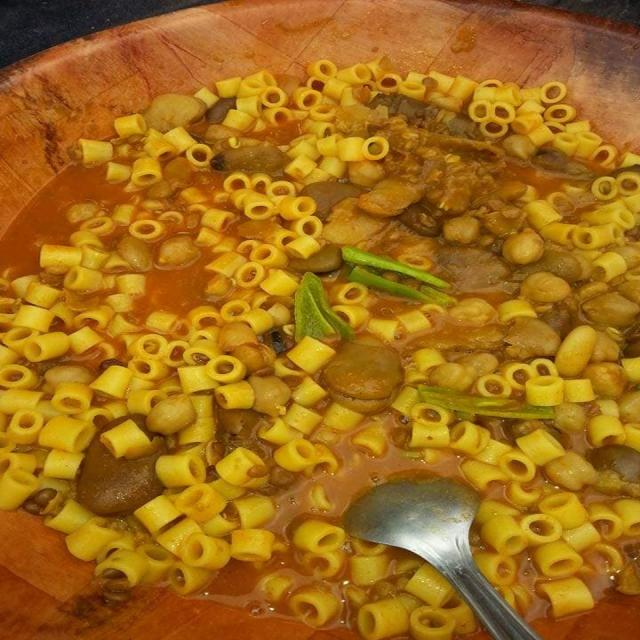Pasta: (11, 55, 632, 605)
